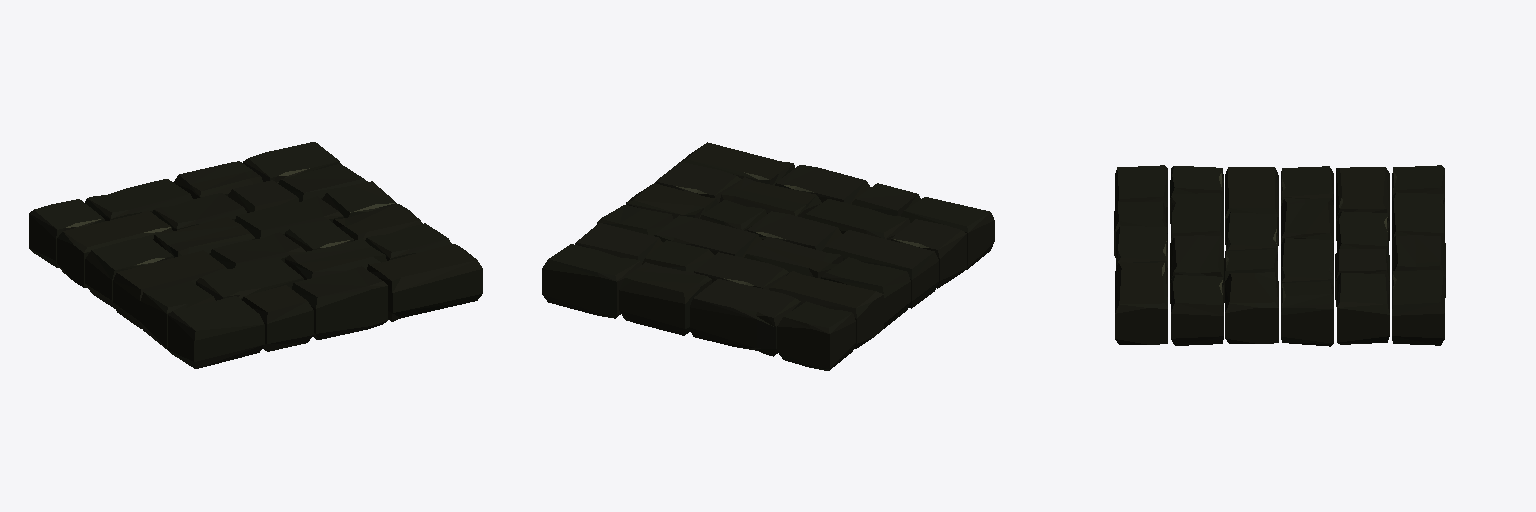
Rendered from Floor_Standard.obj.
3 views of the same model, side by side, from view 1: azimuth 30°, elevation 25°; view 2: azimuth 150°, elevation 25°; view 3: azimuth 270°, elevation 25° (orthographic).
Visible parts, largest first — view 1: Floor_Standard_Cube.044; view 2: Floor_Standard_Cube.044; view 3: Floor_Standard_Cube.044.
Part boxes in pixels (left/top/right/bottom): Floor_Standard_Cube.044: left=29, top=142, right=482, bottom=368; Floor_Standard_Cube.044: left=542, top=142, right=994, bottom=370; Floor_Standard_Cube.044: left=1114, top=165, right=1445, bottom=346.
Bounding box in the file's own units: 1.99 × 0.2859 × 1.98.